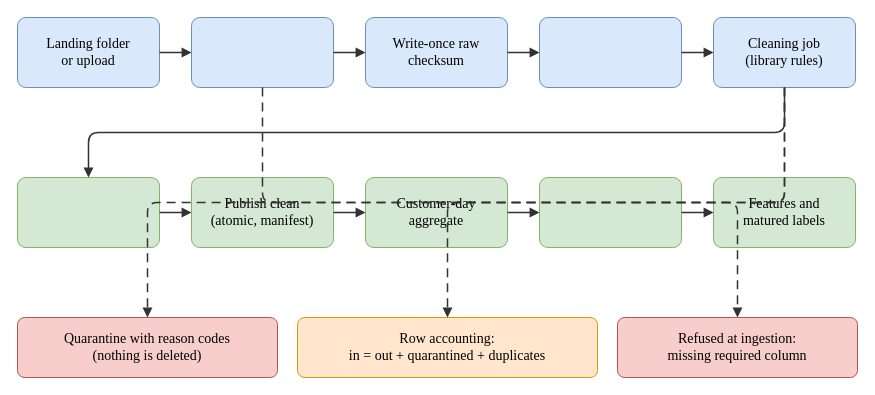
The diagram is 875 pixels wide and 395 high, and some of its shapes have lost their labels. Here are the shapes that lost their labels. From the top down, the centre of each, then its label:
At pixel 262 52: "Register version contract check".
At pixel 610 52: "Profile quality score Q".
At pixel 88 212: "Policy check: rows affected".
At pixel 610 212: "Snapshot expansion (days before T)".
